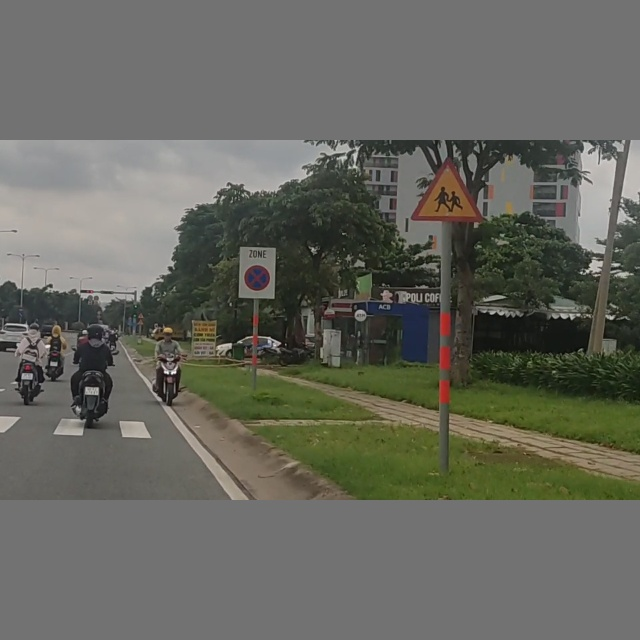P.102: (18, 307, 24, 312)
P.130: (244, 265, 270, 290)
R.302a: (18, 312, 24, 317)
W.225: (411, 155, 485, 223)
